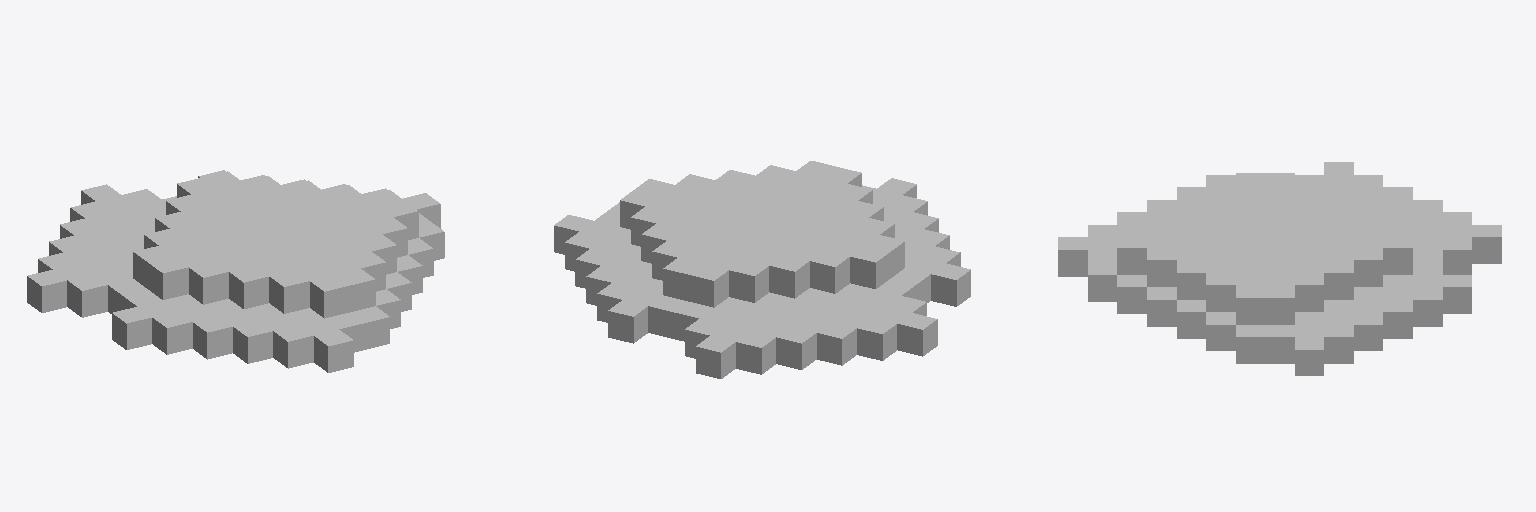
The model's file is Scrap Metal.obj.
The picture shows the model from 3 angles: view 1: azimuth 30°, elevation 25°; view 2: azimuth 150°, elevation 25°; view 3: azimuth 270°, elevation 25°; orthographic projection.
Parts seen in each view (by area): view 1: object 1; view 2: object 1; view 3: object 1.
Part boxes in pixels (bbox=[...]): object 1: bbox=[27, 170, 444, 372]; object 1: bbox=[554, 161, 970, 378]; object 1: bbox=[1058, 162, 1501, 375].
Size of the model in its own units: 1.5 by 0.2 by 1.5.